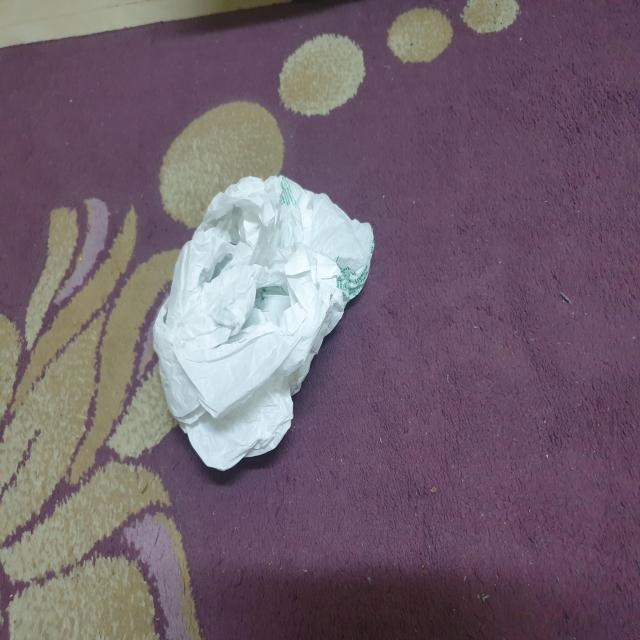plastic bag: (144, 167, 383, 488)
